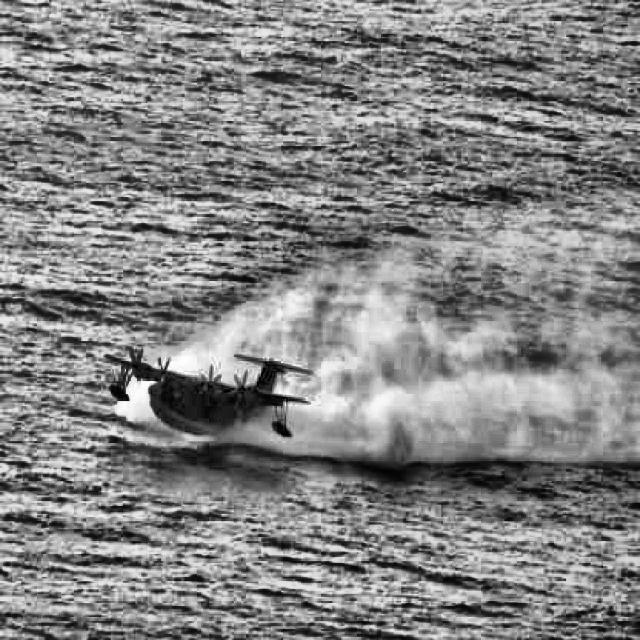US2: (104, 346, 313, 439)
